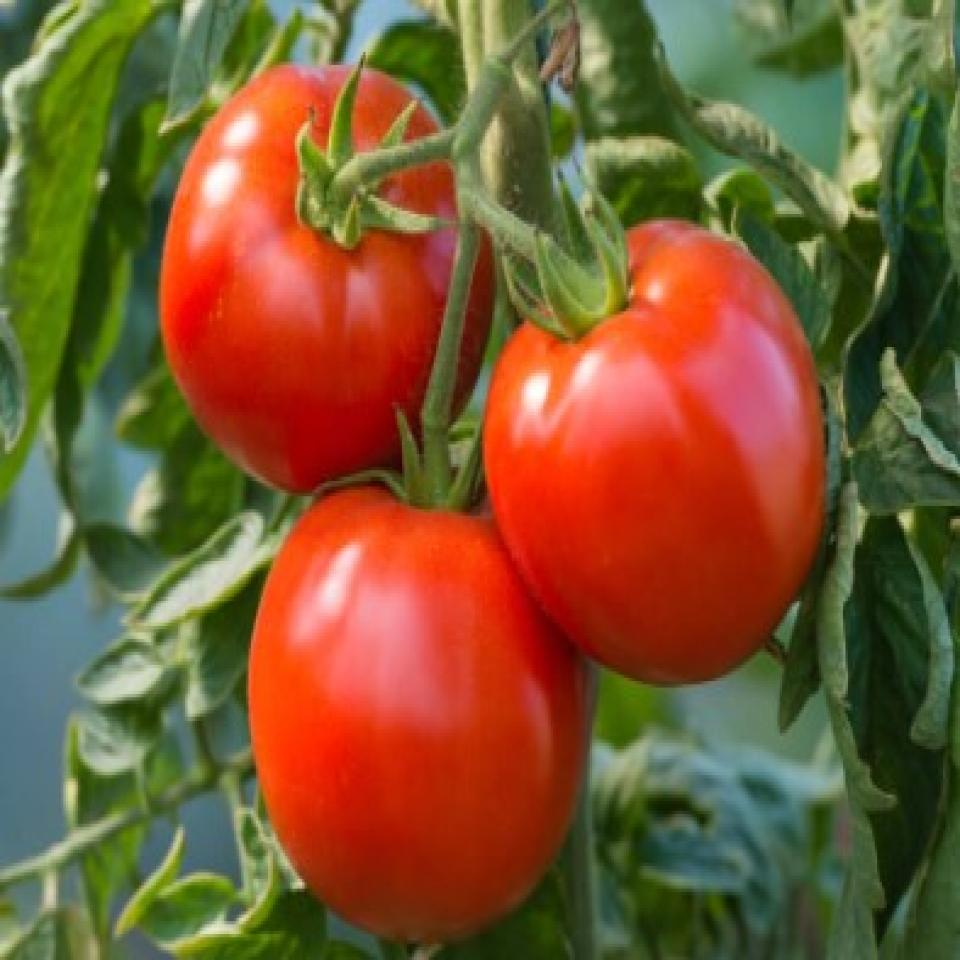Healthy: (503, 202, 844, 688), (248, 487, 593, 945), (162, 56, 494, 454)
